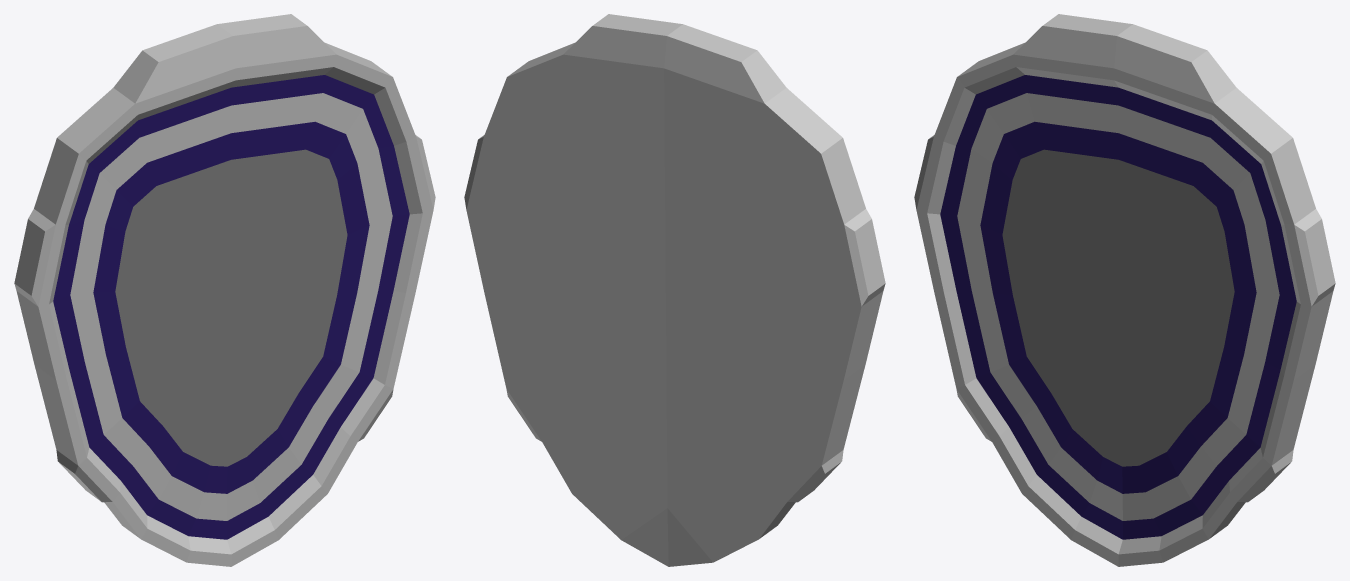
The model's file is Sheld.fbx.
3 renders of one model, left to right at view 1: azimuth 30°, elevation 25°; view 2: azimuth 150°, elevation 25°; view 3: azimuth 330°, elevation 25°, orthographic.
Parts seen in each view (by area): view 1: Sheld; view 2: Sheld; view 3: Sheld.
Boxes of the visible parts, left/top/right/bottom form: Sheld: left=14, top=14, right=435, bottom=566; Sheld: left=464, top=14, right=885, bottom=566; Sheld: left=914, top=14, right=1335, bottom=566.
Bounding box in the file's own units: 0.5507 × 0.693 × 0.0518.
